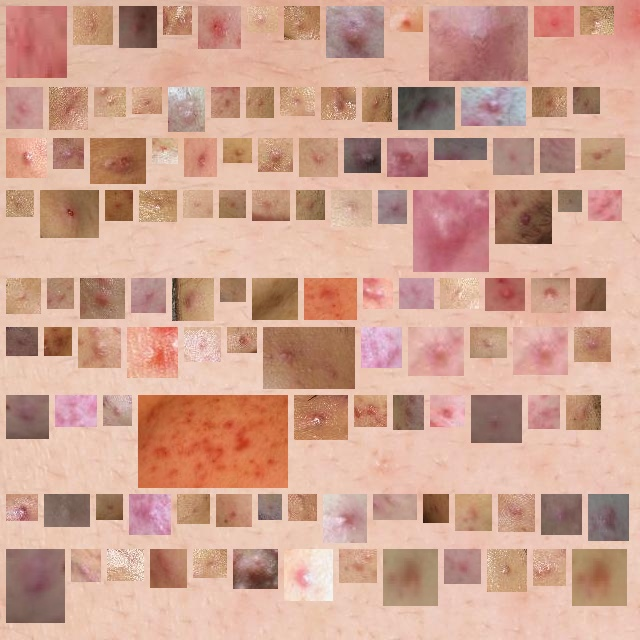papule: (146, 403, 280, 480), (437, 14, 520, 73), (421, 198, 481, 264), (271, 335, 347, 381), (14, 14, 59, 70), (14, 557, 57, 615), (391, 557, 430, 598), (580, 557, 619, 598), (503, 198, 544, 236), (334, 14, 376, 50), (48, 198, 91, 230), (416, 335, 456, 368), (521, 335, 560, 367), (135, 335, 170, 370), (98, 146, 138, 176), (292, 557, 325, 593), (469, 95, 518, 118), (479, 403, 514, 435), (406, 95, 447, 122), (302, 403, 340, 432), (312, 286, 349, 312), (331, 502, 359, 535), (260, 286, 290, 312), (596, 502, 621, 533), (14, 403, 41, 431), (206, 14, 233, 41), (88, 286, 117, 311), (180, 286, 206, 313), (241, 557, 270, 581), (86, 335, 113, 360), (137, 502, 163, 527), (495, 557, 519, 584), (369, 335, 394, 360), (549, 502, 574, 527), (57, 95, 80, 122), (176, 95, 197, 124), (14, 146, 39, 170), (395, 146, 420, 169), (127, 14, 149, 40), (52, 502, 82, 521), (81, 14, 105, 37), (14, 95, 35, 121), (307, 146, 330, 169), (501, 146, 526, 167), (339, 198, 364, 219), (381, 494, 409, 512), (158, 557, 179, 580), (442, 146, 479, 159), (506, 502, 527, 524), (589, 146, 617, 162), (463, 502, 484, 523), (539, 286, 562, 305), (63, 403, 89, 419), (493, 286, 517, 303), (352, 146, 373, 165), (192, 335, 213, 354), (582, 335, 603, 354), (452, 557, 473, 576), (347, 557, 369, 575), (192, 146, 209, 169), (14, 286, 33, 306), (548, 146, 567, 165), (139, 286, 158, 305), (574, 403, 593, 422), (292, 14, 312, 32), (542, 14, 566, 29), (541, 557, 558, 578), (147, 198, 169, 214), (448, 286, 471, 301), (266, 146, 285, 164), (224, 502, 244, 519), (115, 557, 136, 573), (260, 198, 282, 213), (329, 95, 348, 112), (478, 335, 499, 350), (438, 403, 457, 419), (536, 403, 552, 421), (407, 286, 426, 301), (401, 403, 416, 422), (362, 403, 379, 419), (596, 198, 614, 213), (370, 95, 384, 114), (540, 95, 559, 109), (288, 95, 307, 108), (584, 286, 598, 303), (185, 502, 202, 516), (79, 557, 93, 574), (588, 14, 606, 27), (386, 198, 399, 216), (201, 557, 219, 570), (61, 146, 76, 161), (102, 95, 118, 109), (371, 286, 385, 301), (14, 335, 30, 348), (219, 95, 232, 110), (111, 403, 124, 418), (304, 198, 317, 212), (254, 95, 266, 110), (113, 198, 125, 213), (14, 502, 30, 513), (398, 14, 415, 24), (171, 14, 184, 27), (191, 198, 205, 210), (255, 14, 270, 25), (55, 286, 66, 301), (52, 335, 64, 348), (140, 95, 154, 106), (296, 502, 309, 513), (235, 335, 249, 345), (14, 198, 26, 209), (227, 198, 238, 210), (431, 502, 441, 515), (581, 95, 592, 106), (231, 146, 244, 155), (104, 502, 115, 512), (160, 146, 170, 156), (228, 286, 238, 294), (266, 502, 274, 512), (566, 198, 574, 204)
